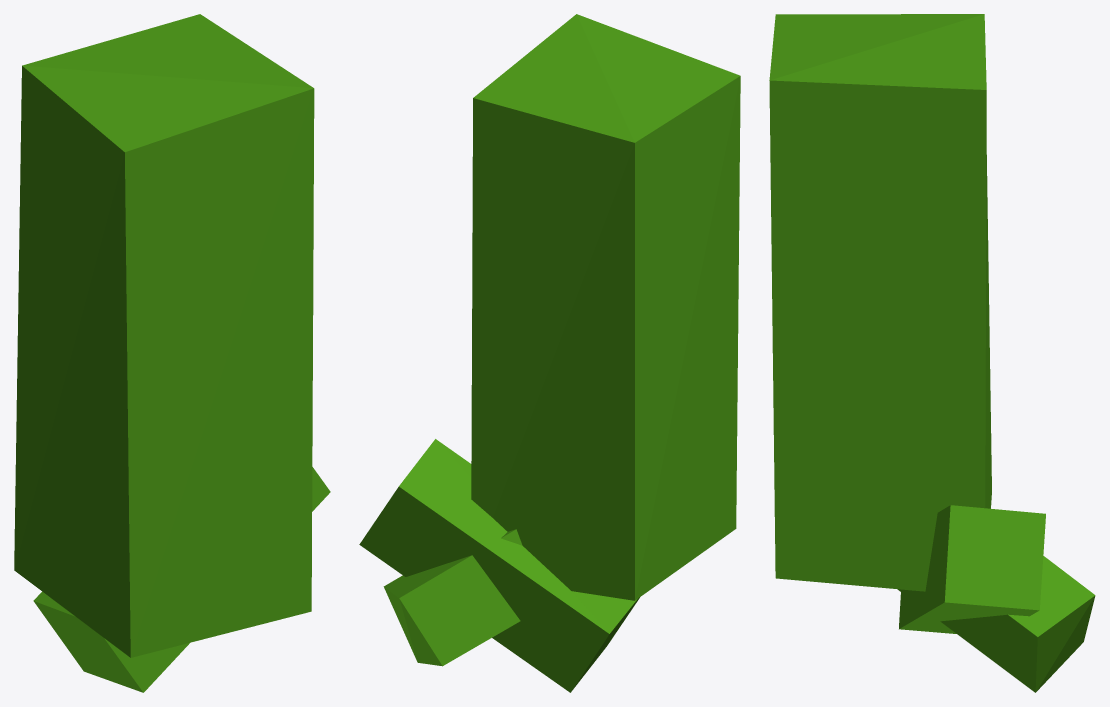
3 renders of one model, left to right at view 1: azimuth 30°, elevation 25°; view 2: azimuth 150°, elevation 25°; view 3: azimuth 270°, elevation 25°, orthographic. The views are drawn at different scales.
Visible parts, largest first — view 1: 933_Cube.3770; view 2: 933_Cube.3770; view 3: 933_Cube.3770.
Boxes of the visible parts, bbox=[...] form: 933_Cube.3770: bbox=[14, 14, 330, 692]; 933_Cube.3770: bbox=[359, 14, 740, 692]; 933_Cube.3770: bbox=[769, 14, 1095, 692].
Size of the model in its own units: 7.11 by 14.79 by 7.18.
